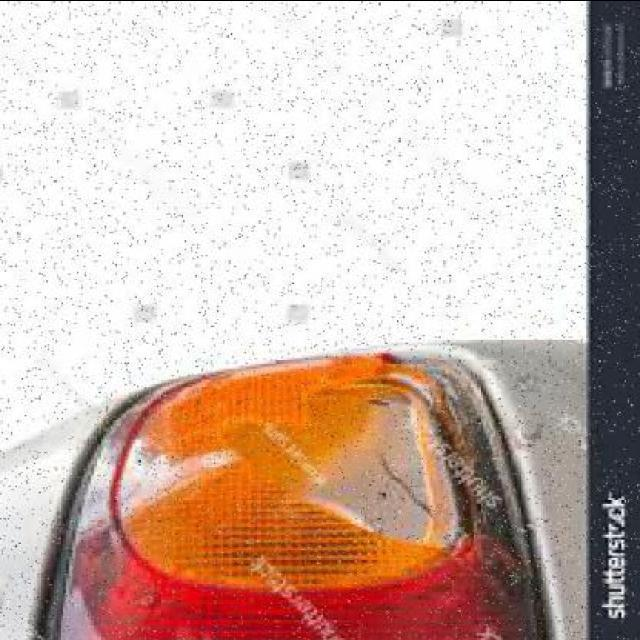Signlight-Damage: (288, 352, 486, 559)
Taillight-Damage: (20, 339, 554, 640)
